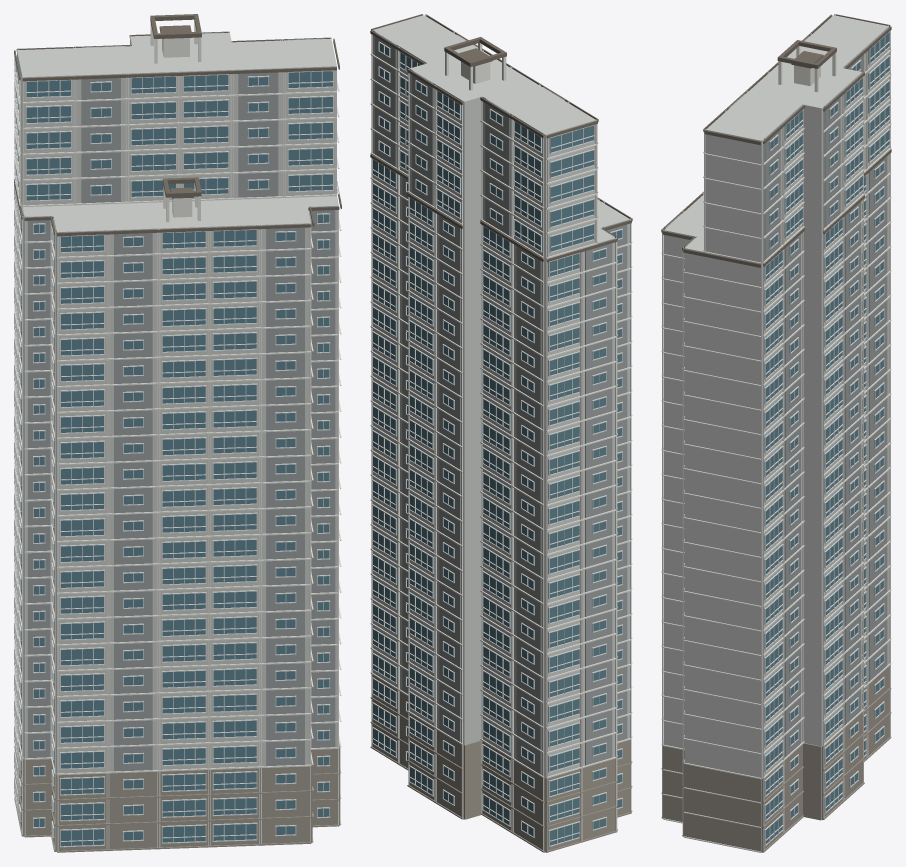
Rendered from bespoke-banpo-xi-108.glb.
3 views of the same model, side by side, from view 1: azimuth 30°, elevation 25°; view 2: azimuth 150°, elevation 25°; view 3: azimuth 270°, elevation 25° (orthographic). The views are drawn at different scales.
Visible parts, largest first — view 1: BX108_editable_BX108_blue_grey_broad_glazing, BX108_editable_BX108_pale_silver_limestone, BX108_editable_BX108_grey_service_core, BX108_editable_BX108_white_window_frames, BX108_editable_BX108_ivory_course_bands, BX108_editable_BX108_warm_ground_stone, BX108_editable_BX108_dark_coping; view 2: BX108_editable_BX108_pale_silver_limestone, BX108_editable_BX108_blue_grey_broad_glazing, BX108_editable_BX108_grey_service_core, BX108_editable_BX108_white_window_frames, BX108_editable_BX108_ivory_course_bands, BX108_editable_BX108_warm_ground_stone, BX108_editable_BX108_dark_coping; view 3: BX108_editable_BX108_pale_silver_limestone, BX108_editable_BX108_ivory_course_bands, BX108_editable_BX108_grey_service_core, BX108_editable_BX108_white_window_frames, BX108_editable_BX108_blue_grey_broad_glazing, BX108_editable_BX108_warm_ground_stone, BX108_editable_BX108_dark_coping.
Boxes of the visible parts, box(x1,y1,x2,y2) form: BX108_editable_BX108_blue_grey_broad_glazing: box(16, 55, 332, 846); BX108_editable_BX108_pale_silver_limestone: box(17, 33, 338, 851); BX108_editable_BX108_grey_service_core: box(20, 32, 335, 772); BX108_editable_BX108_white_window_frames: box(14, 55, 333, 847); BX108_editable_BX108_ivory_course_bands: box(14, 21, 341, 852); BX108_editable_BX108_warm_ground_stone: box(14, 743, 340, 852); BX108_editable_BX108_dark_coping: box(14, 14, 341, 236); BX108_editable_BX108_pale_silver_limestone: box(372, 15, 629, 851); BX108_editable_BX108_blue_grey_broad_glazing: box(373, 43, 621, 845); BX108_editable_BX108_grey_service_core: box(375, 32, 627, 774); BX108_editable_BX108_white_window_frames: box(372, 41, 622, 846); BX108_editable_BX108_ivory_course_bands: box(370, 15, 632, 852); BX108_editable_BX108_warm_ground_stone: box(370, 675, 632, 852); BX108_editable_BX108_dark_coping: box(370, 14, 632, 262); BX108_editable_BX108_pale_silver_limestone: box(664, 15, 888, 851); BX108_editable_BX108_ivory_course_bands: box(661, 14, 891, 852); BX108_editable_BX108_grey_service_core: box(665, 36, 887, 757); BX108_editable_BX108_white_window_frames: box(764, 31, 890, 846); BX108_editable_BX108_blue_grey_broad_glazing: box(764, 32, 889, 845); BX108_editable_BX108_warm_ground_stone: box(661, 666, 891, 852); BX108_editable_BX108_dark_coping: box(661, 14, 891, 267).
Bounding box in the file's own units: 31.19 × 81.3 × 22.99.
